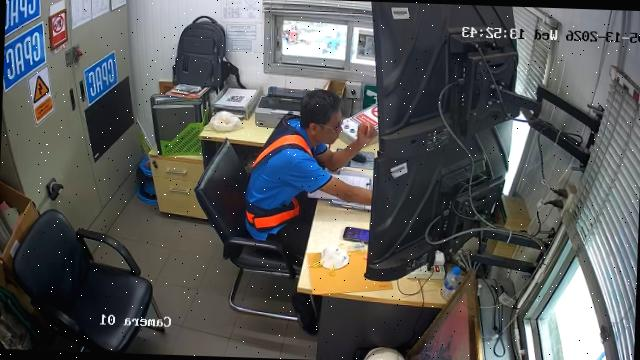Head: (300, 90, 341, 146)
People: (244, 90, 377, 262)
Phone: (342, 227, 368, 242)
